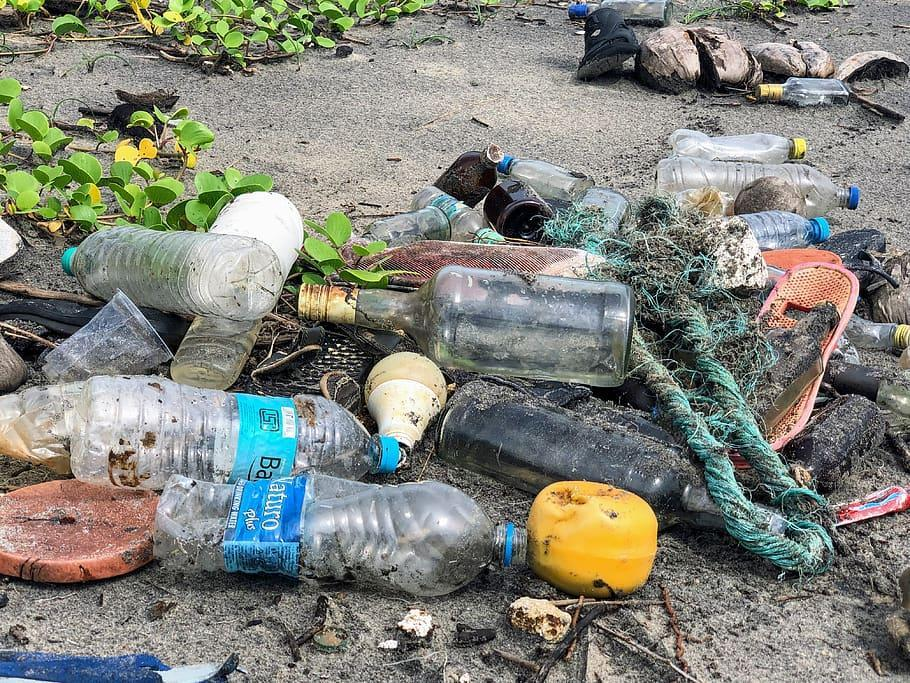bottle: (433, 385, 789, 559), (151, 475, 533, 603), (297, 262, 642, 390), (69, 383, 404, 489), (55, 207, 284, 335), (653, 157, 870, 210), (489, 144, 600, 211), (159, 317, 258, 392), (405, 175, 501, 244), (664, 121, 811, 159), (709, 212, 833, 251), (357, 207, 463, 243), (755, 76, 858, 106)
